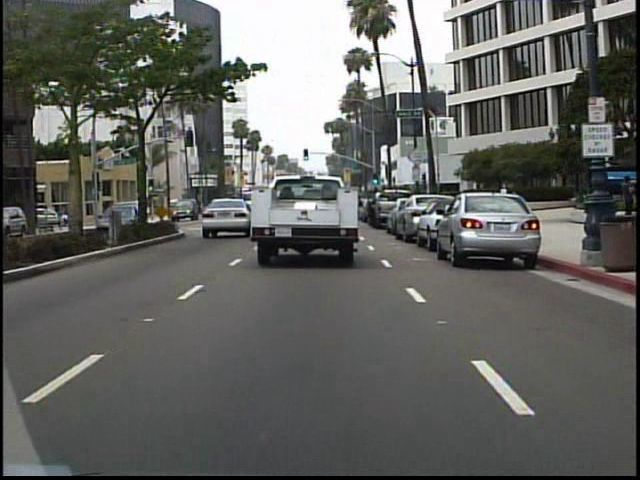person: (618, 173, 636, 216)
